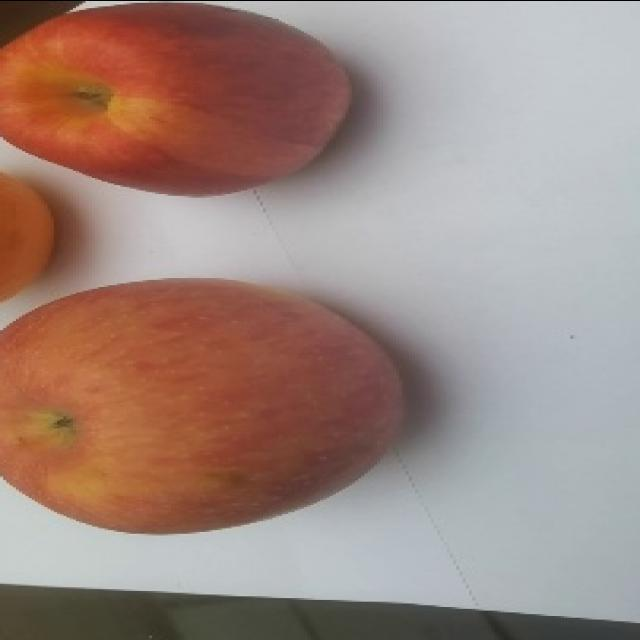Apple: (0, 276, 406, 535), (0, 0, 353, 196)
Orange: (0, 171, 55, 302)
